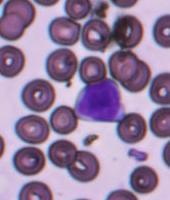L: (75, 78, 124, 122)
